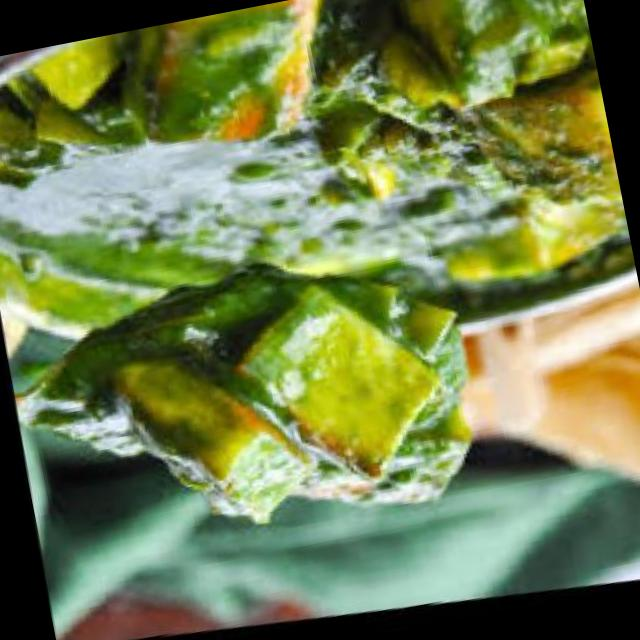palak_paneer: (0, 0, 635, 387), (3, 218, 497, 583)
